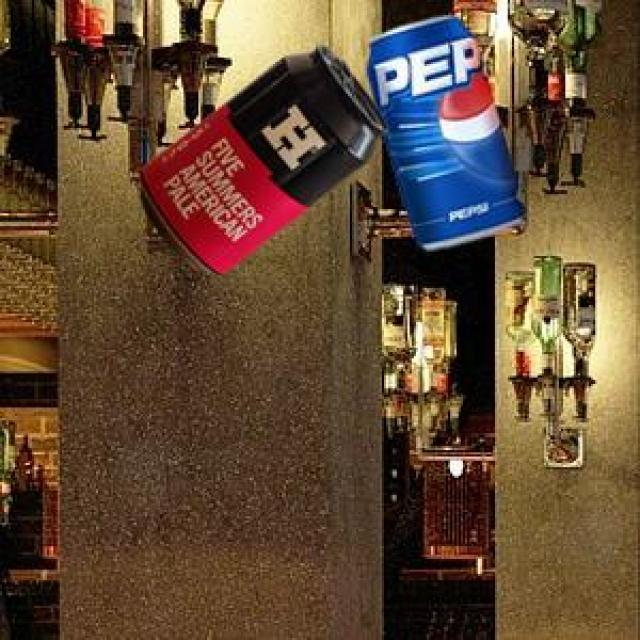logam: (135, 44, 385, 272), (364, 14, 522, 246)
